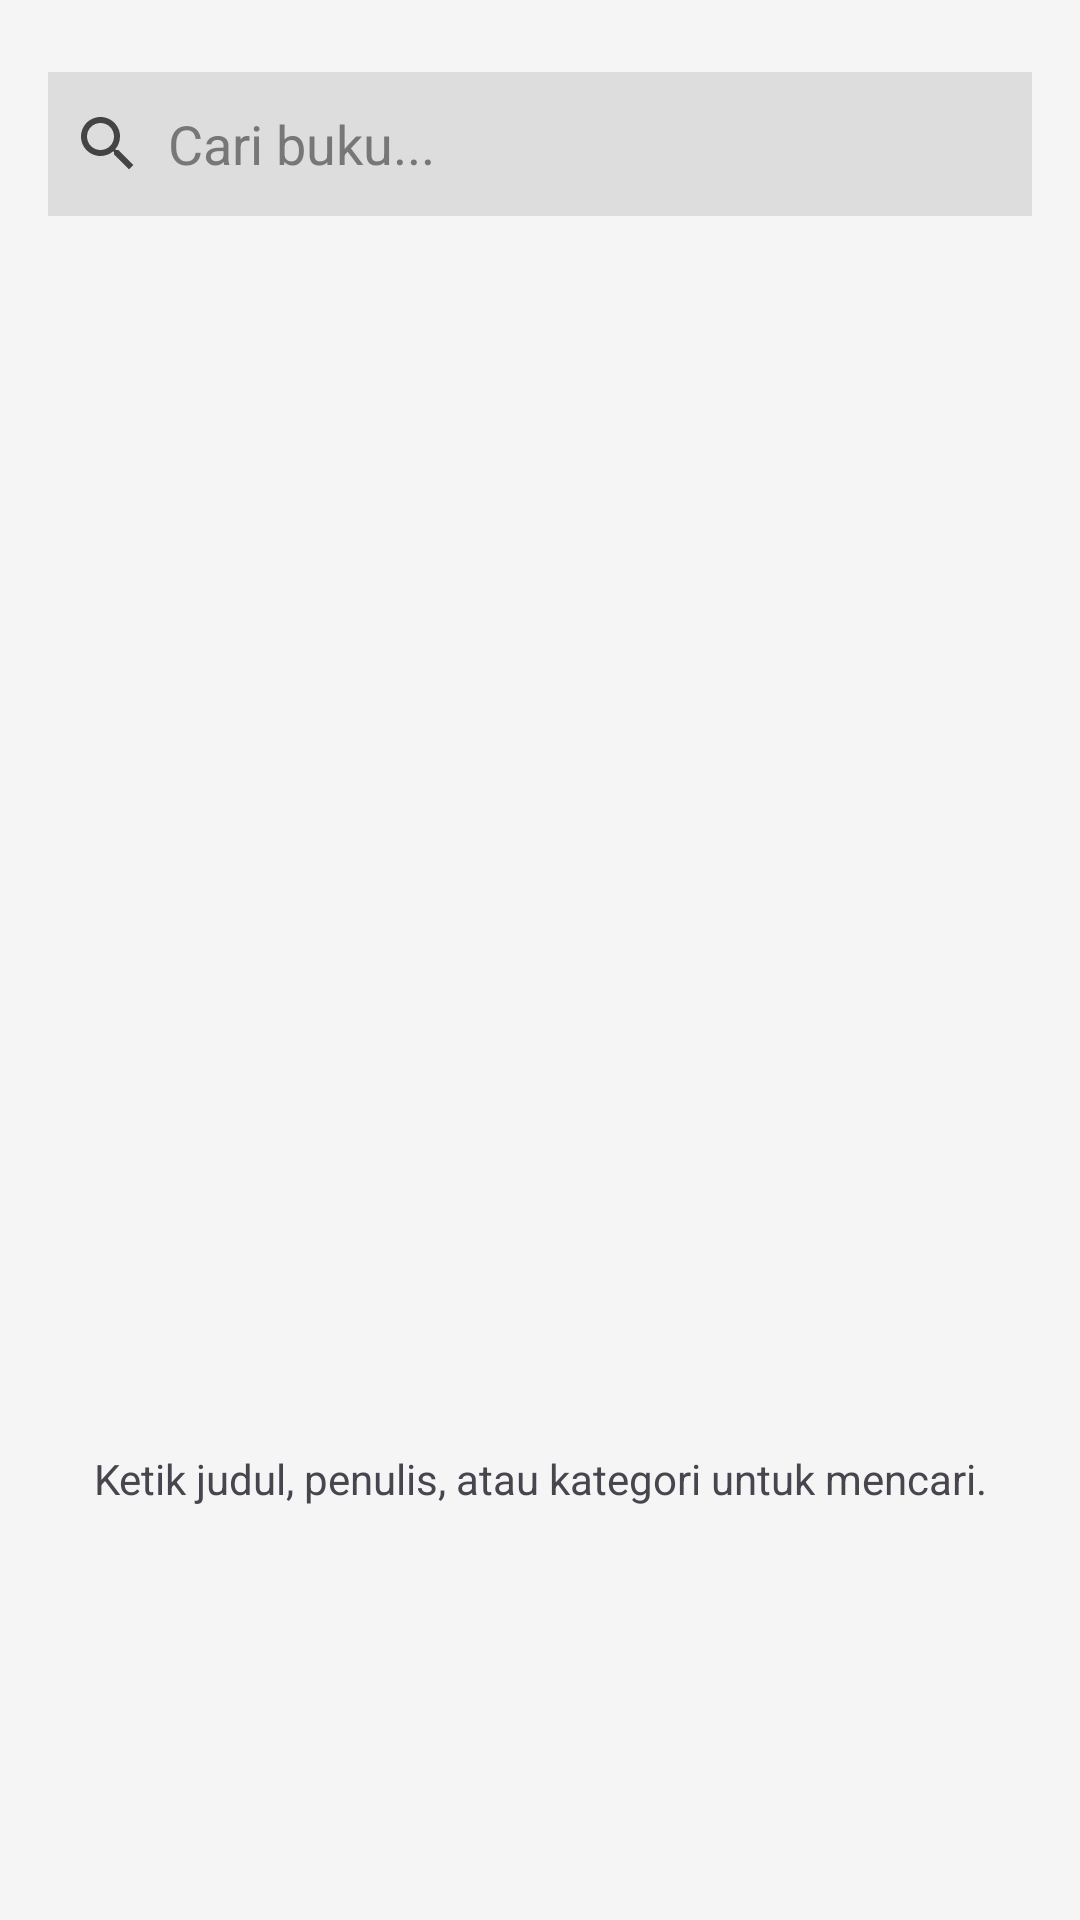

Where icons sit on this 1080 x 1920 app screen, as (x1, y1, x2, y2):
Search Icon: (81, 117, 133, 169)
